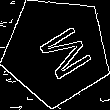M_SW: (24, 18, 89, 84)
